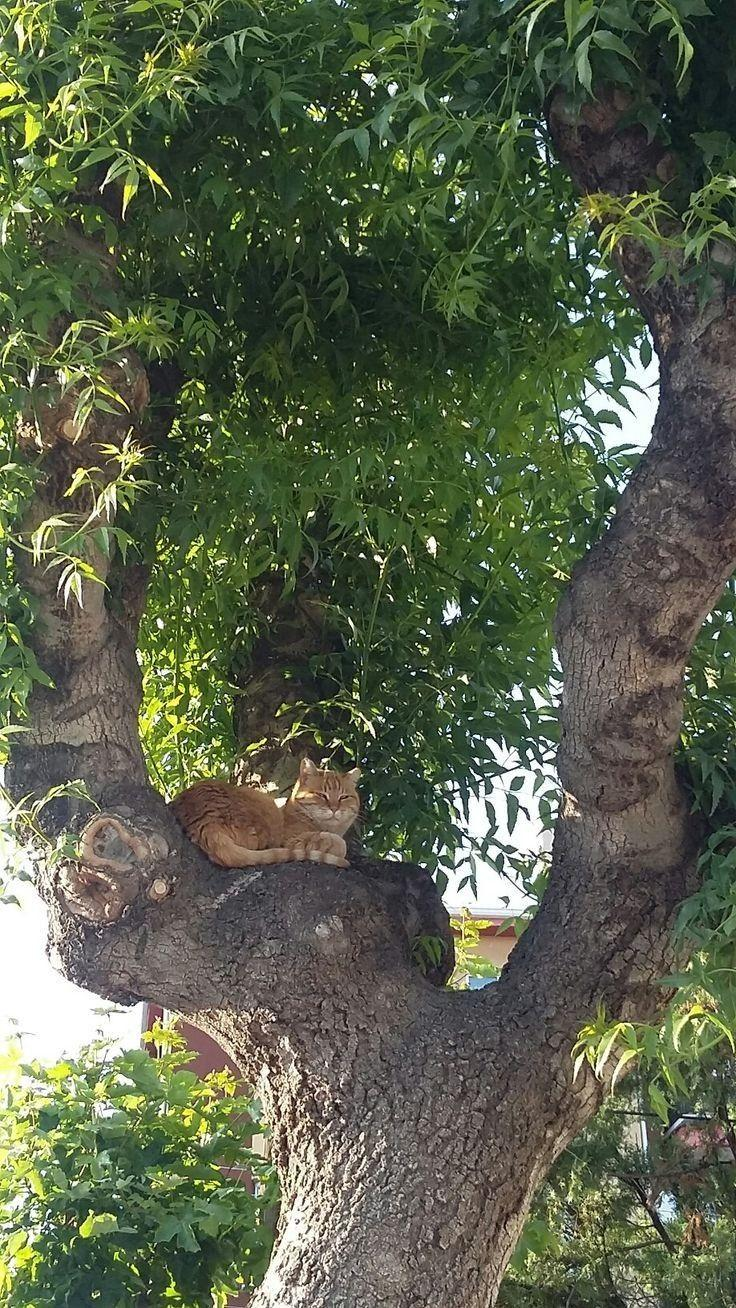kedo: (166, 757, 360, 870)
